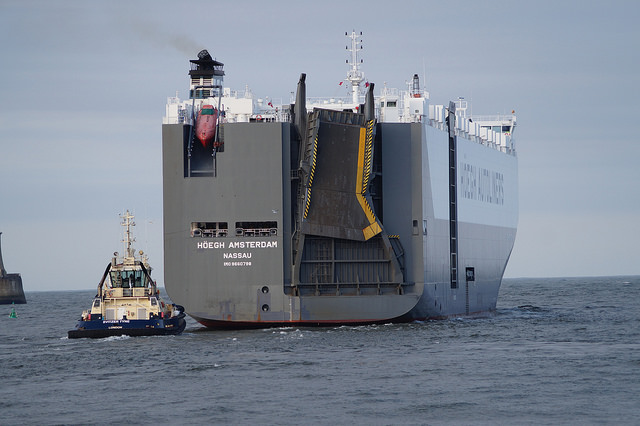PCC: (158, 32, 523, 328)
tug_boat: (66, 209, 178, 337)
